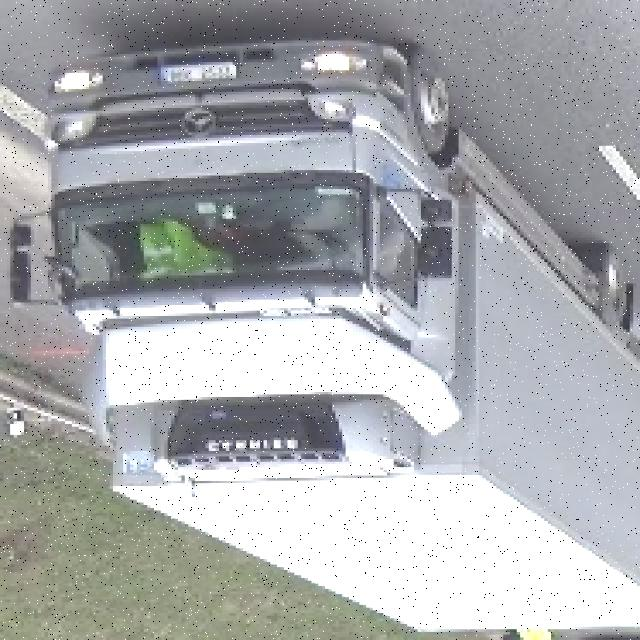truck: (17, 40, 640, 632)
